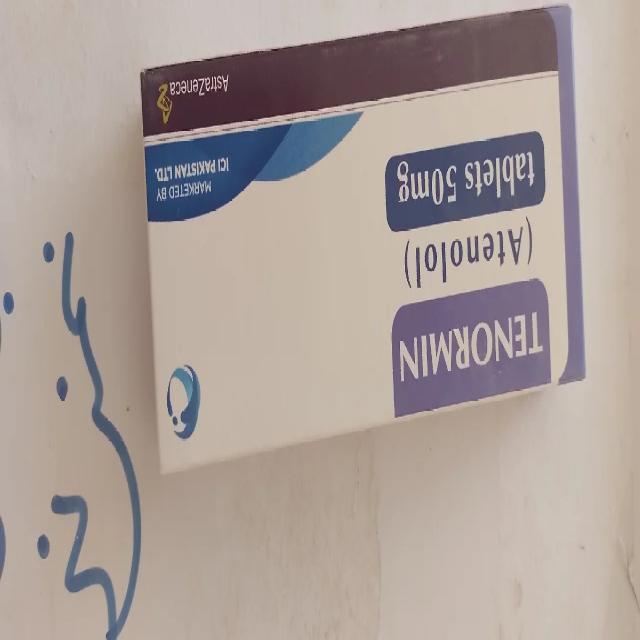drug-name: (396, 307, 547, 385)
